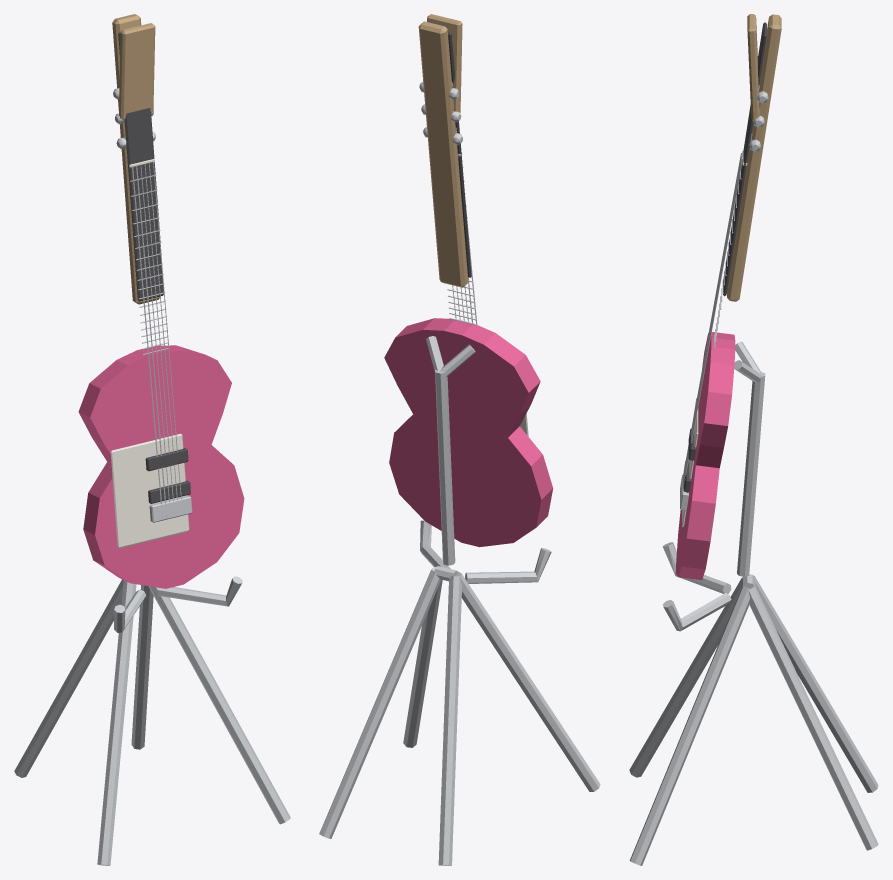
File: live-music-venue-and-festival-stage-guitar-stand-with--e8d04dcb.glb
3 renders of one model, left to right at view 1: azimuth 30°, elevation 25°; view 2: azimuth 150°, elevation 25°; view 3: azimuth 270°, elevation 25°, orthographic. The views are drawn at different scales.
Parts seen in each view (by area): view 1: guitar-stand-with-guitar; view 2: guitar-stand-with-guitar; view 3: guitar-stand-with-guitar.
Boxes of the visible parts, box(x1,y1,x2,y2) form: guitar-stand-with-guitar: box(14, 14, 290, 865); guitar-stand-with-guitar: box(319, 14, 600, 865); guitar-stand-with-guitar: box(629, 14, 878, 865).
Size of the model in its own units: 0.4239 by 1.64 by 0.4636.
